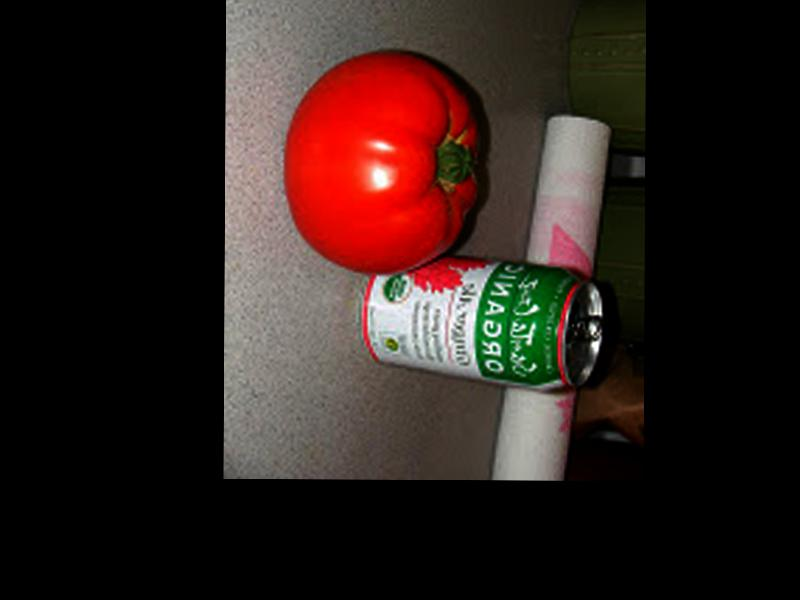Tomato: (285, 53, 477, 272)
